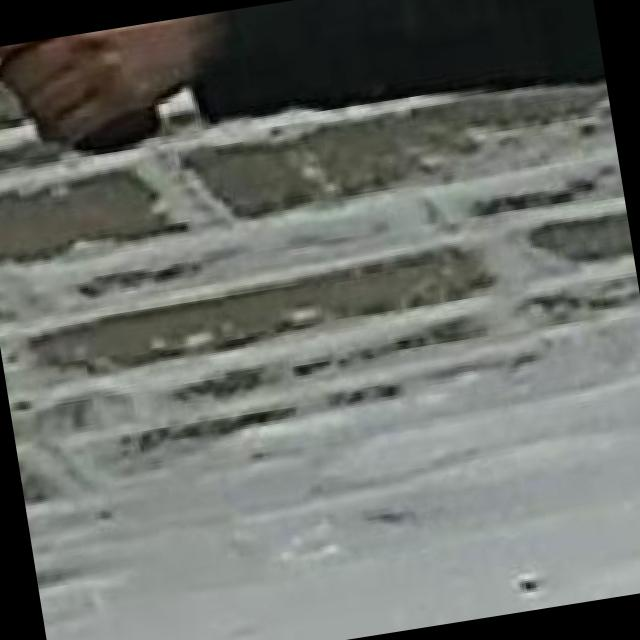Guns: (0, 7, 279, 238)
